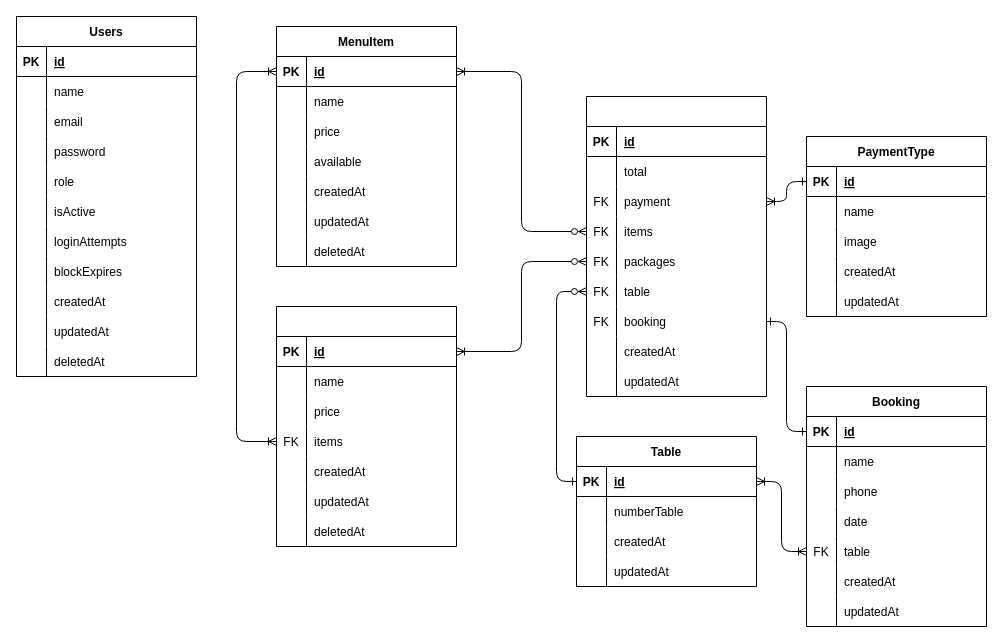
This 1003x643 diagram has some shape labels left out. The shapes that lost their labels are listed below. From the top down, each one's box as (x1, y1, x2, y2) in pixels, then its label:
(586, 96, 766, 396): Transaction
(276, 306, 456, 546): PackageMenu
